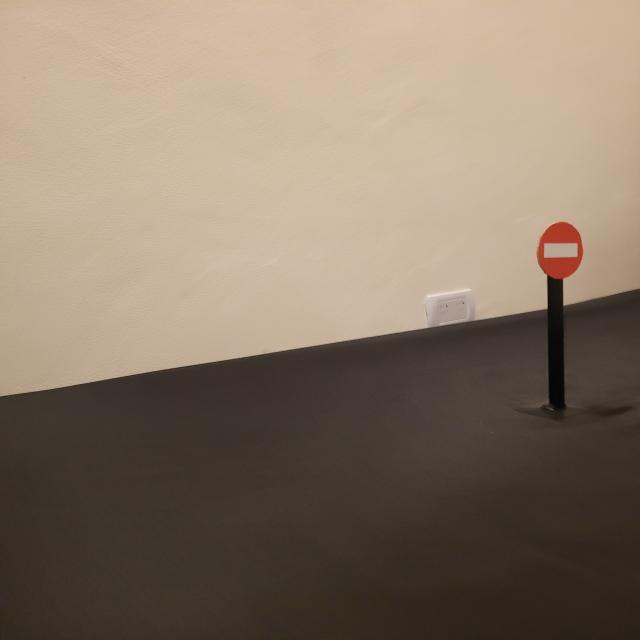no_entry: (536, 222, 584, 280)
